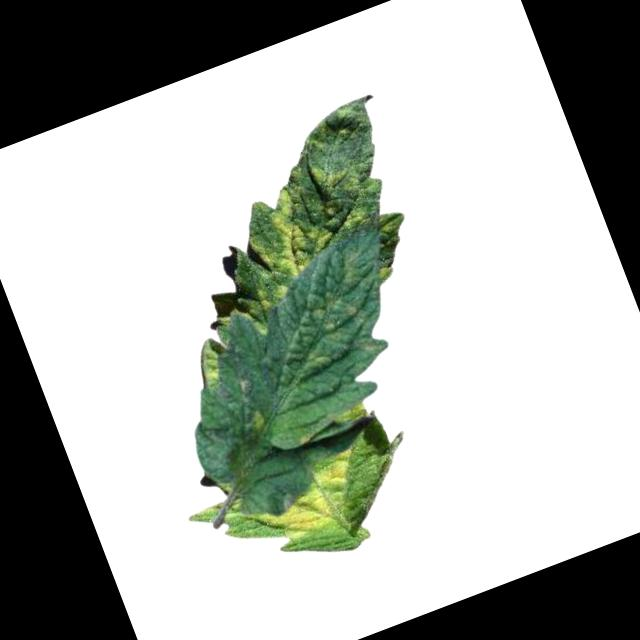Leaf_Mold: (242, 249, 398, 398), (240, 446, 375, 553), (234, 184, 323, 290)
